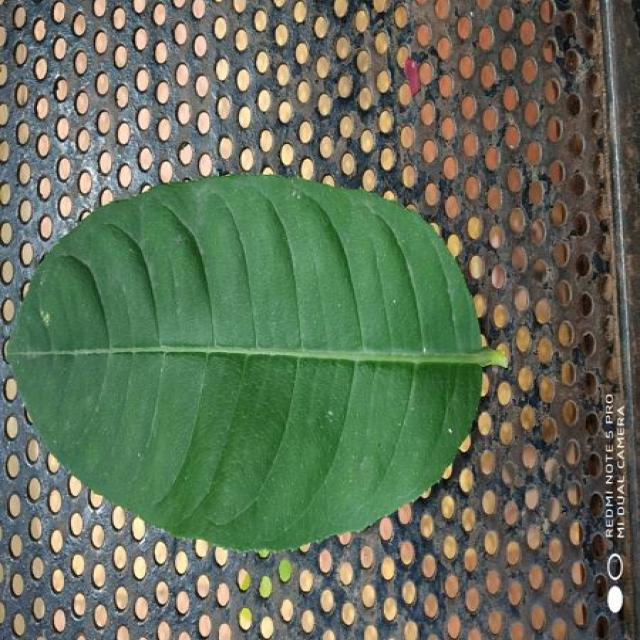badipala: (10, 176, 502, 550)
